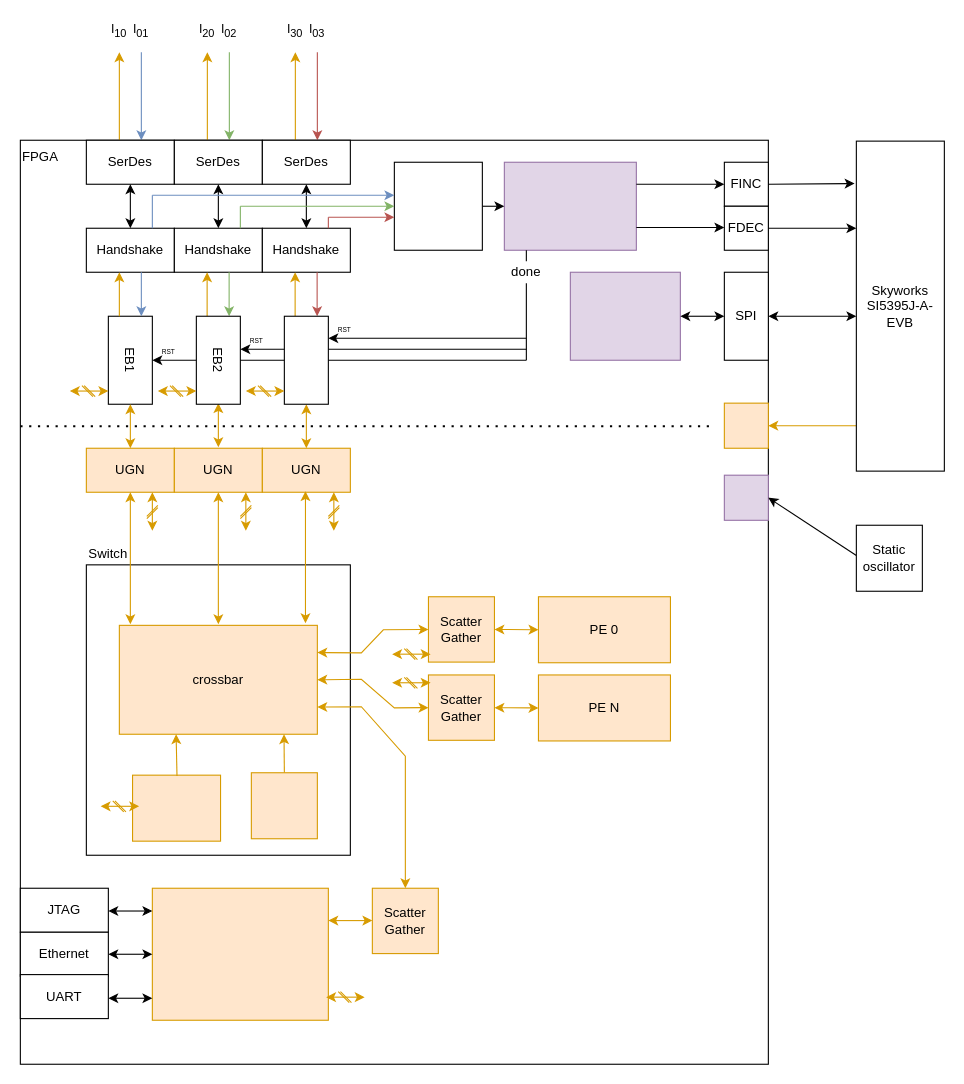
Image size: 964x1084. Some labels were removed from this diagram. Each missing label, with the box of its shape:
calendar: (131, 774, 221, 841)
CLK: (723, 402, 768, 448)
Clock Control (HW or RISC-V): (503, 161, 636, 250)
DDCs: (393, 161, 482, 250)
EB3: (283, 315, 328, 404)
Management Unit (RISC-V / VexRiscV): (151, 887, 328, 1020)
null link: (250, 772, 317, 839)
Programmer: (569, 271, 680, 360)
REF CLK: (723, 474, 768, 520)
